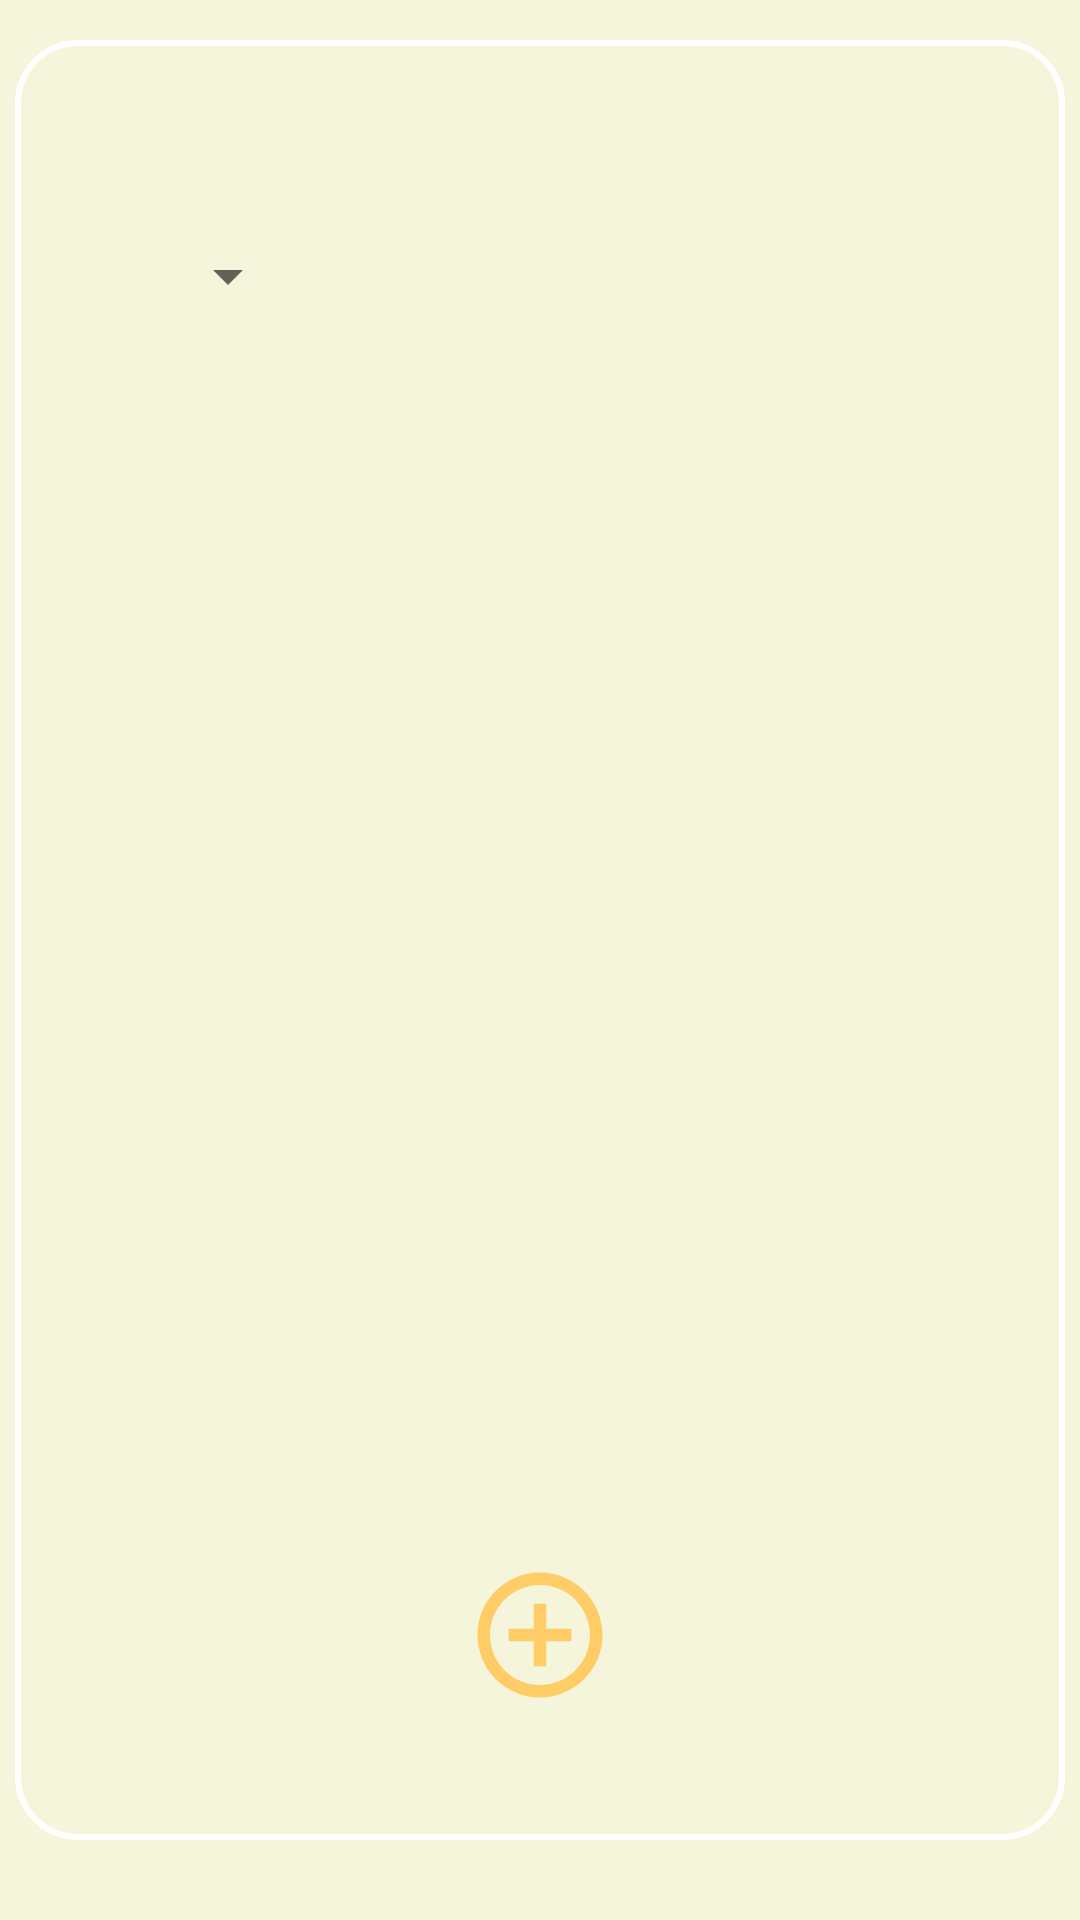

Where icons sit on this 1080px×1920px app screen, as detection(x1, y1, x2, y2):
add circle: detection(477, 1572, 603, 1698)
